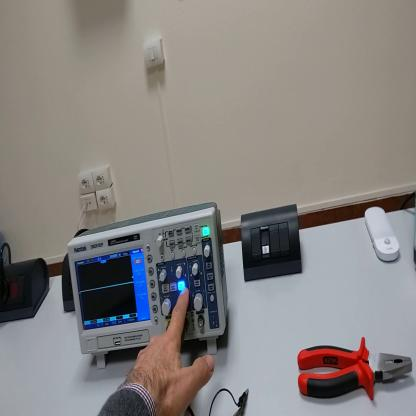hand: (127, 283, 214, 412)
oscilloscope: (69, 202, 229, 370)
pliers: (297, 336, 412, 406)
socket: (1, 261, 53, 322), (62, 255, 75, 313)
